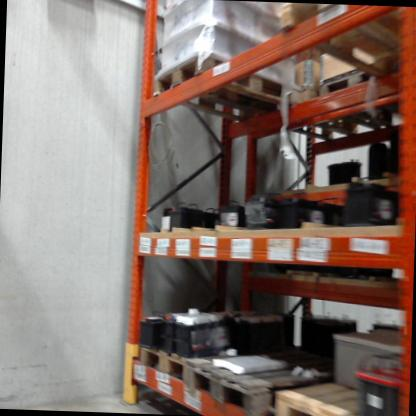pallet: (276, 4, 416, 100), (147, 50, 307, 130), (187, 338, 350, 416), (128, 320, 280, 394), (318, 48, 401, 129), (272, 372, 392, 416)
